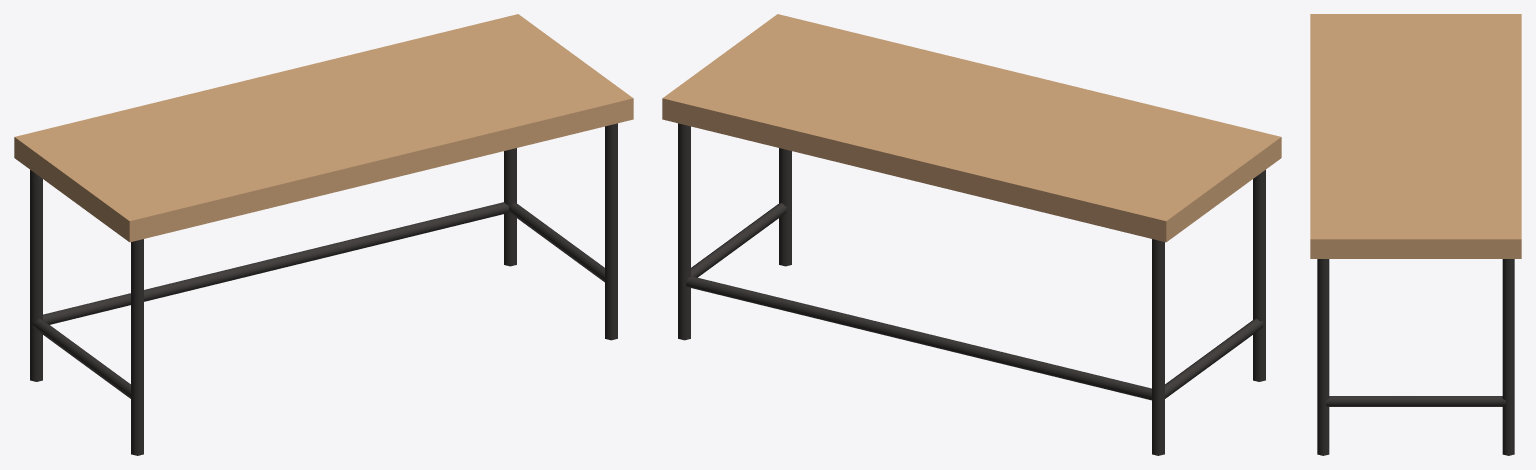
The model's file is desk2.FBX.
The picture shows the model from 3 angles, left to right: view 1: azimuth 30°, elevation 25°; view 2: azimuth 150°, elevation 25°; view 3: azimuth 270°, elevation 25°; orthographic projection. The views are drawn at different scales.
Parts seen in each view (by area): view 1: desk2; view 2: desk2; view 3: desk2.
Part boxes in pixels (x1=…): desk2: x1=14, y1=14, x2=633, y2=455; desk2: x1=662, y1=14, x2=1281, y2=455; desk2: x1=1310, y1=14, x2=1521, y2=455.
Bounding box in the file's own units: 166 × 75.83 × 65.87.
1 material, 1 textured.
